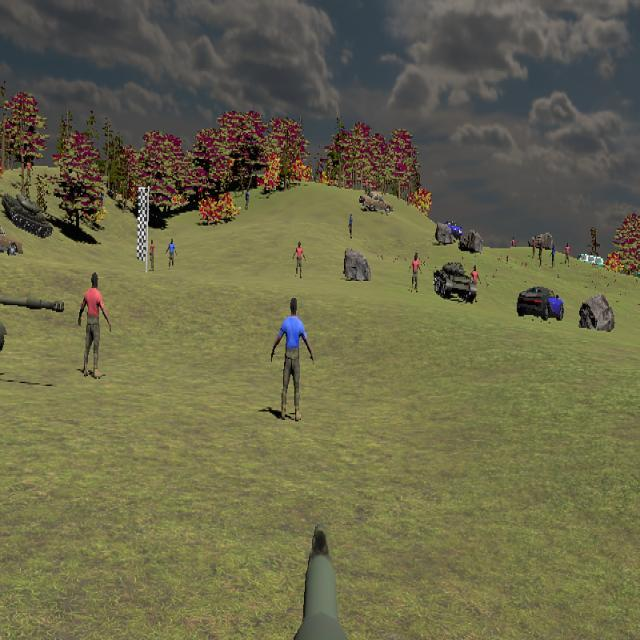Human: (271, 296, 314, 421), (77, 272, 111, 379), (408, 252, 423, 294), (292, 241, 307, 279)
Tank: (0, 267, 64, 378), (0, 190, 67, 238), (433, 260, 477, 304)
car: (517, 285, 565, 321), (0, 223, 23, 258), (359, 193, 394, 215)
